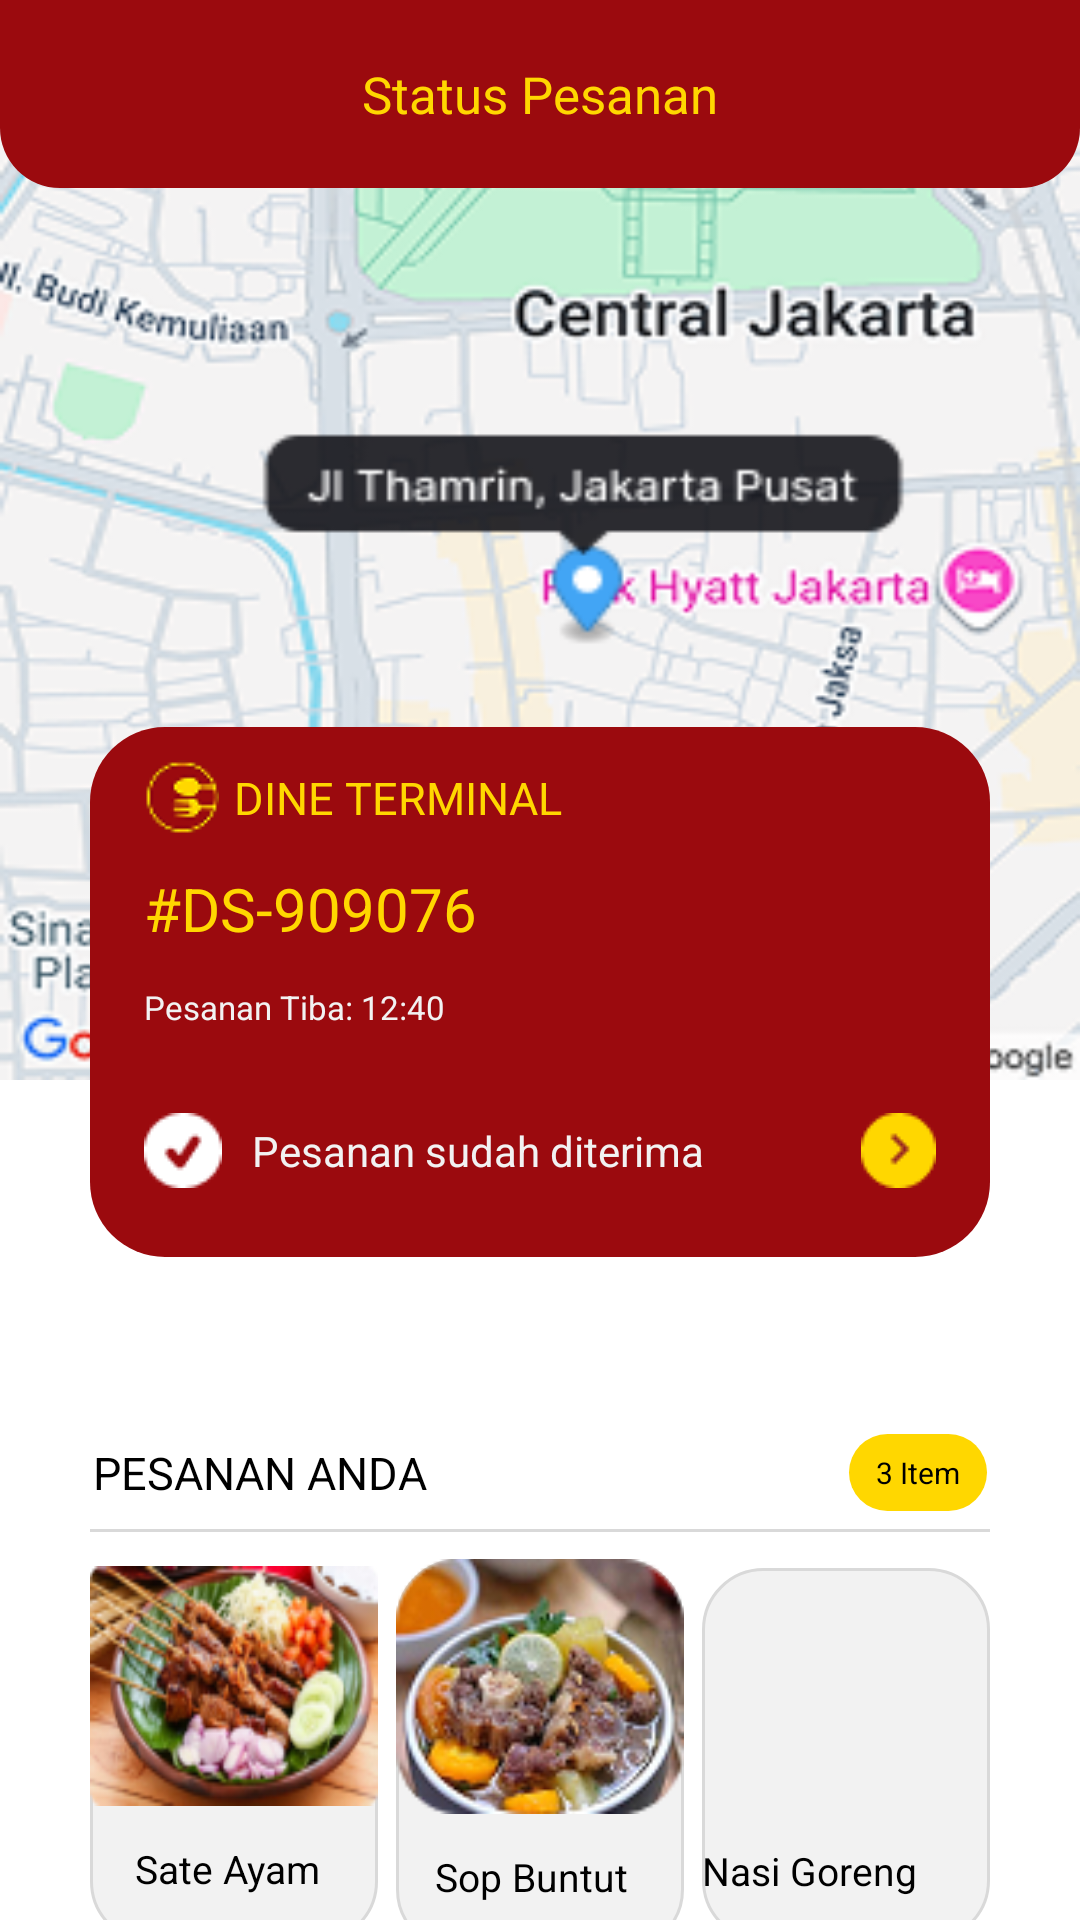

Named icons in this screenshot (1080x1920) and their bounding boxes, (x1,y1,x2,y2):
checklist: (144,1113,222,1188)
yellowarrowfoward: (861,1113,936,1188)
